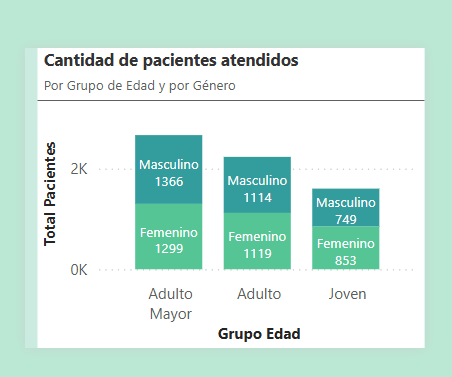

The dashboard page shown, as its layout file describes it:
{"tool":"powerbi","page":{"name":"Tooltip Linechart","canvas":[320,240],"ordinal":4},"visuals":[{"type":"columnChart","title":"Cantidad de pacientes atendidos","fields":{"Category":["Base_Datos_Pacientes_Crónicos.Grupo Edad"],"Y":["Medidas Pacientes.Total Pacientes"],"Series":["Base_Datos_Pacientes_Crónicos.Género"]},"box":[10,0,310,240],"z":0}]}

Visuals, with their boxes on the page's 320x240 design canvas (x1, y1, x2, y2). These are canvas units, not pixel positions in the 452x377 screenshot, which may show the page scaled, cropped or inside an application window:
"Cantidad de pacientes atendidos" columnChart: 10:0:320:240
